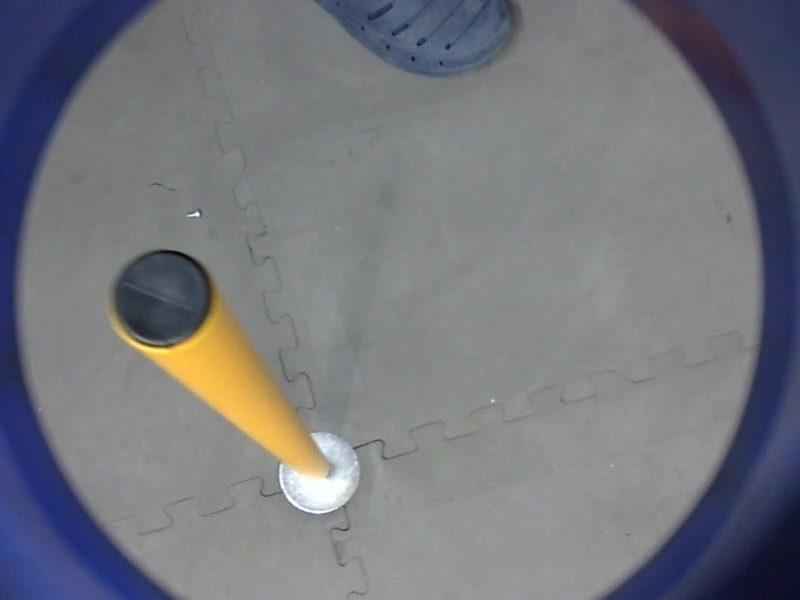tip: (100, 244, 221, 357)
